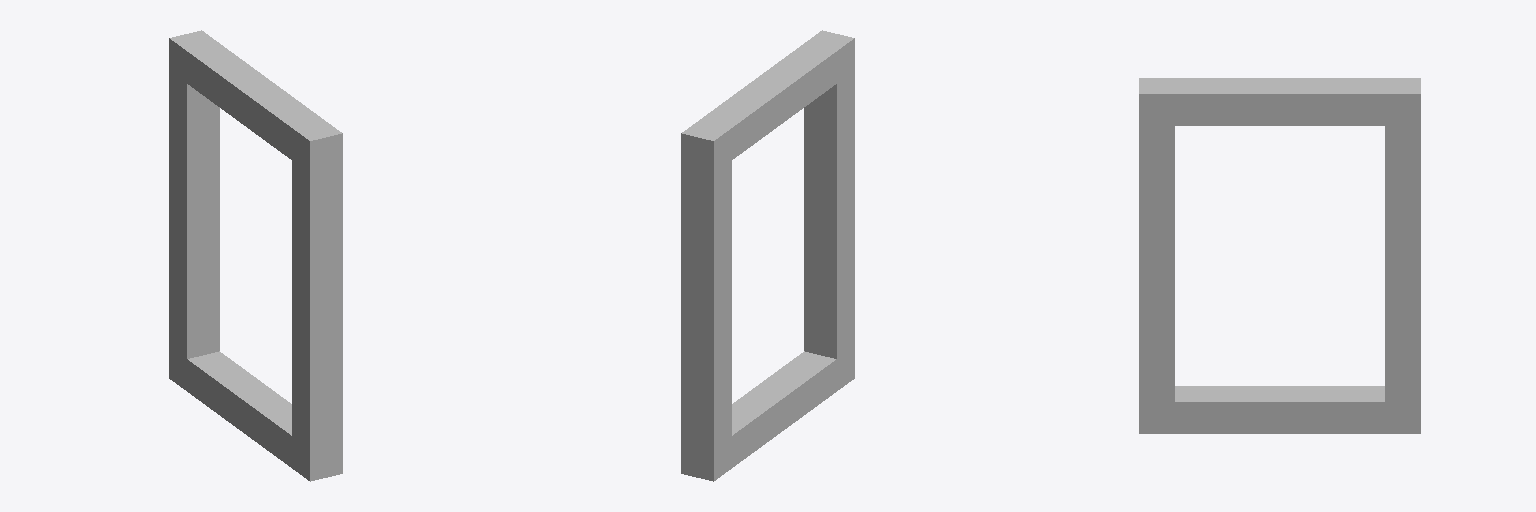
3 views of the same model, side by side, from view 1: azimuth 30°, elevation 25°; view 2: azimuth 150°, elevation 25°; view 3: azimuth 270°, elevation 25° (orthographic).
Parts seen in each view (by area): view 1: G-__556356_G-__556356_Wood; view 2: G-__556356_G-__556356_Wood; view 3: G-__556356_G-__556356_Wood.
Boxes of the visible parts, box(x1,y1,x2,y2) form: G-__556356_G-__556356_Wood: box(169, 30, 342, 481); G-__556356_G-__556356_Wood: box(681, 30, 854, 481); G-__556356_G-__556356_Wood: box(1139, 78, 1420, 433).
Bounding box in the file's own units: 0.05 × 0.5 × 0.375.